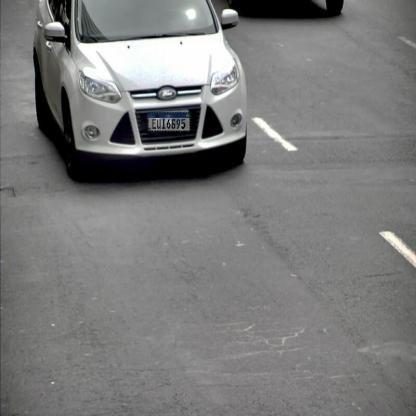PlacaM: (148, 112, 190, 132)
